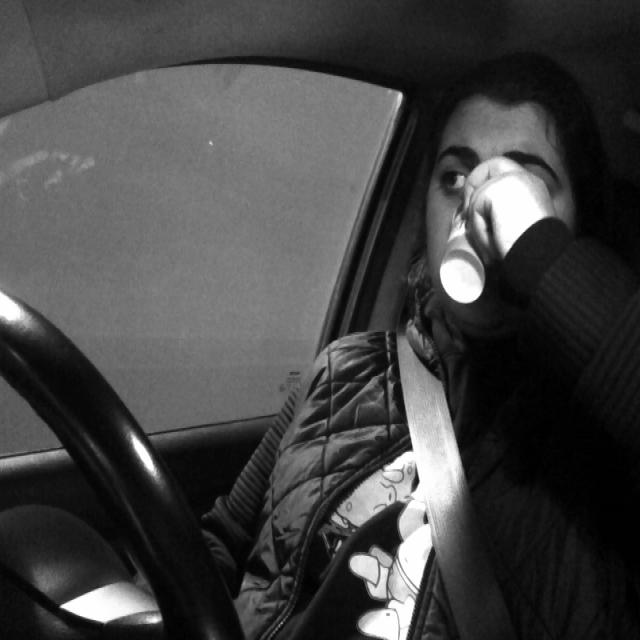drinking: (436, 180, 504, 312)
